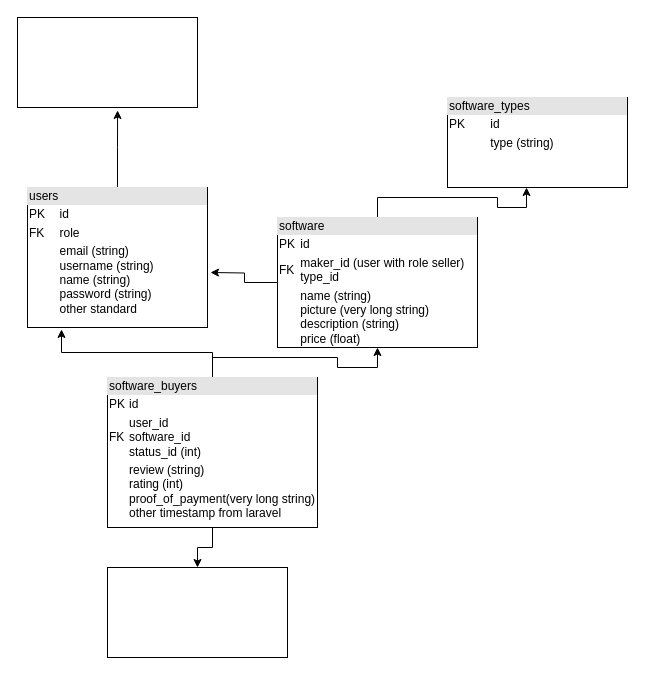
Some shapes in this 645 by 675 pixel diagram are drawn without their labels. Each missing label, with the centre of its shape:
"roles PK id role (String)" belongs at point 107,62.
"status PK id FK1 status (string)" belongs at point 197,612.
